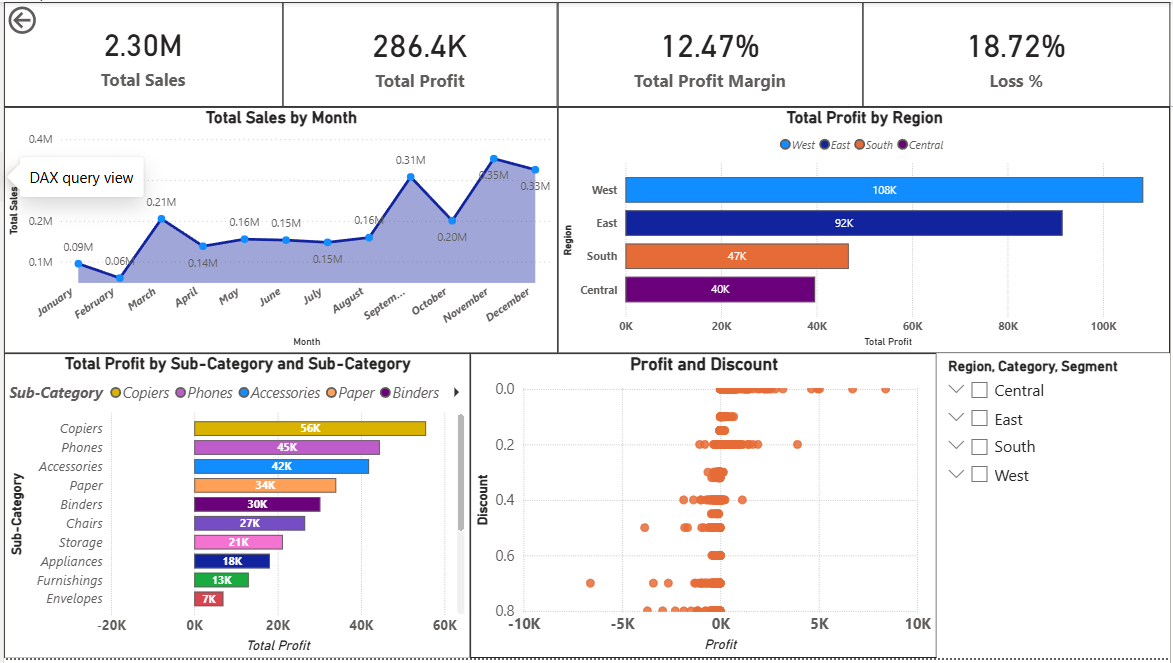

What the dashboard file says about the page in this screenshot:
{"tool":"powerbi","page":{"name":"Page 1","canvas":[1280,720],"ordinal":0},"visuals":[{"type":"card","fields":{"Values":["clean_retail.Total Sales"]},"box":[0,0,306,115.3],"z":0},{"type":"card","fields":{"Values":["clean_retail.Total Profit"]},"box":[306,0,301.9,115.3],"z":1},{"type":"card","fields":{"Values":["clean_retail.Total Profit Margin"]},"box":[607.9,0,334.8,115.3],"z":2},{"type":"card","fields":{"Values":["clean_retail.Loss %"]},"box":[942.7,0,337.6,115.3],"z":3},{"type":"lineChart","fields":{"Category":["clean_retail.Order Date.Variation.Date Hierarchy.Year","clean_retail.Order Date.Variation.Date Hierarchy.Quarter","clean_retail.Order Date.Variation.Date Hierarchy.Month","clean_retail.Order Date.Variation.Date Hierarchy.Day"],"Y":["clean_retail.Total Sales"]},"box":[0,115.3,607.9,270.3],"z":4},{"type":"barChart","title":"Total Profit by Region","fields":{"Category":["clean_retail.Region"],"Y":["clean_retail.Total Profit"],"Series":["clean_retail.Region"]},"box":[607.9,115.3,672.4,270.3],"z":5},{"type":"barChart","fields":{"Y":["clean_retail.Total Profit"],"Series":["clean_retail.Sub-Category"],"Category":["clean_retail.Sub-Category"]},"box":[0,385.6,511.8,334.8],"z":6},{"type":"scatterChart","fields":{"X":["clean_retail.Profit"],"Y":["clean_retail.Discount"]},"box":[512,386,512,334],"z":7},{"type":"slicer","fields":{"Values":["clean_retail.Region","clean_retail.Category","clean_retail.Segment"]},"box":[1023.7,385.6,256.6,333.4],"z":8},{"type":"actionButton","box":[0,0,100,40],"z":9}]}

Visuals, with their boxes in screenshot pixels (x1, y1, x2, y2), scaled from the page's 1280x720 canvas onto the 1173x663 screenshot:
card - clean_retail.Total Sales: <bbox>0, 0, 280, 106</bbox>
card - clean_retail.Total Profit: <bbox>280, 0, 557, 106</bbox>
card - clean_retail.Total Profit Margin: <bbox>557, 0, 864, 106</bbox>
card - clean_retail.Loss %: <bbox>864, 0, 1172, 106</bbox>
lineChart - clean_retail.Order Date.Variation.Date Hierarchy.Year x clean_retail.Order Date.Variation.Date Hierarchy.Quarter: <bbox>0, 106, 557, 355</bbox>
"Total Profit by Region" barChart: <bbox>557, 106, 1172, 355</bbox>
barChart - clean_retail.Total Profit x clean_retail.Sub-Category: <bbox>0, 355, 469, 662</bbox>
scatterChart - clean_retail.Profit x clean_retail.Discount: <bbox>469, 355, 938, 662</bbox>
slicer - clean_retail.Region x clean_retail.Category: <bbox>938, 355, 1172, 662</bbox>
actionButton: <bbox>0, 0, 92, 37</bbox>
